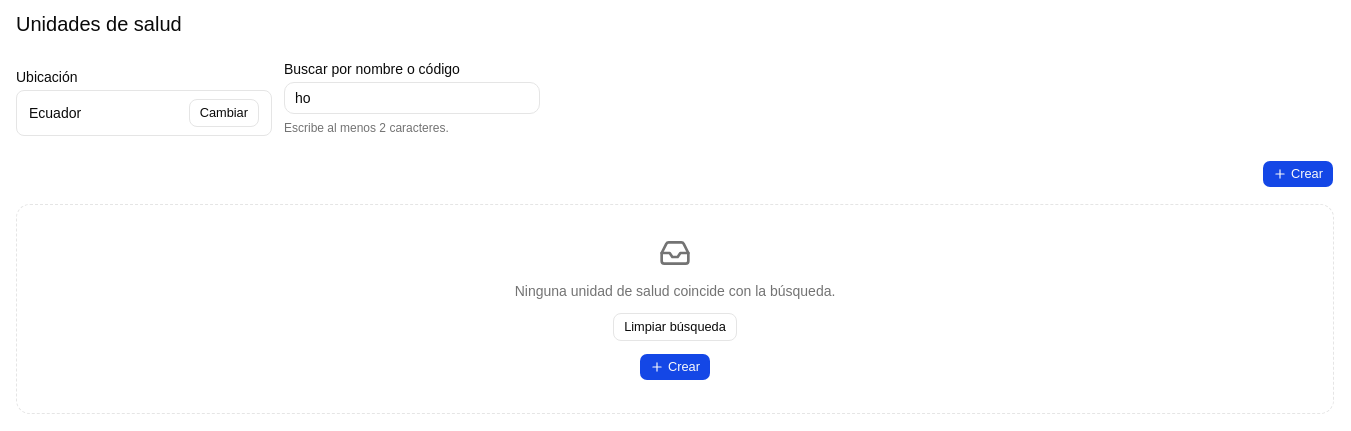
Test: HealthFacilityListPage — borrar el término vuelve al listado por ubicación › limpiar q en modo búsqueda vuelve a pedir /location/:id
Expected: the text "Ninguna unidad de salud coincide con la búsqueda." is shown, [515,281,835,301]
What coordinates should you click on to do the following:
click the button "Limpiar búsqueda"
I would click on:
 (675, 327)
Its box is [613,313,737,341].
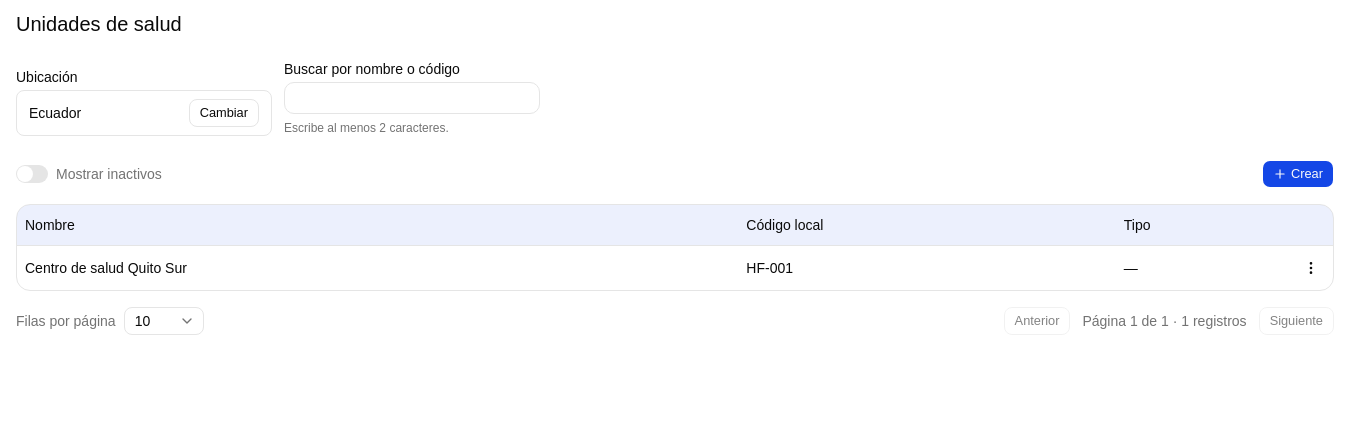
Result: the text "Centro de salud Quito Sur" is shown at [25,260,187,276]
